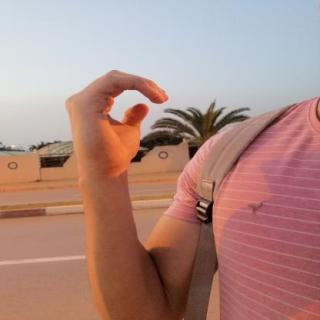JEEM: (55, 64, 177, 184)
